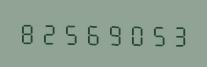eight: (17, 18, 37, 45)
five: (143, 20, 163, 48), (59, 19, 79, 46)
nine: (101, 19, 121, 47)
six: (80, 19, 100, 46)
three: (164, 21, 184, 48)
two: (38, 18, 58, 46)
zero: (122, 20, 142, 47)
